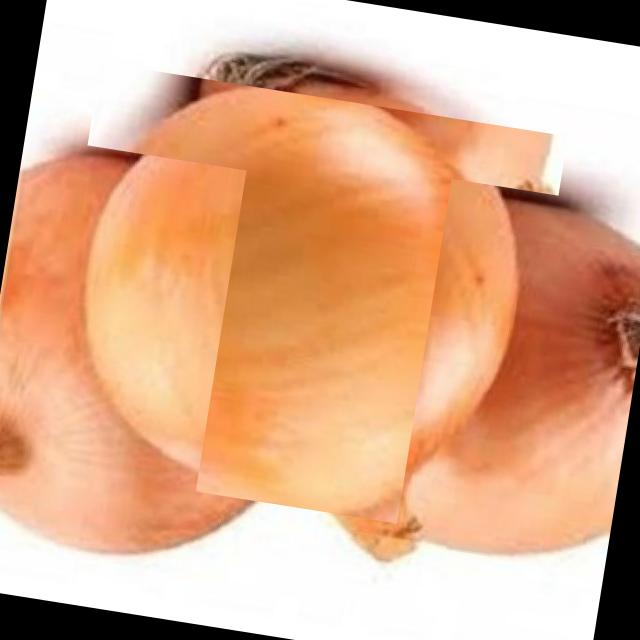Onion: (49, 49, 554, 554), (0, 135, 246, 585), (393, 179, 640, 581)
